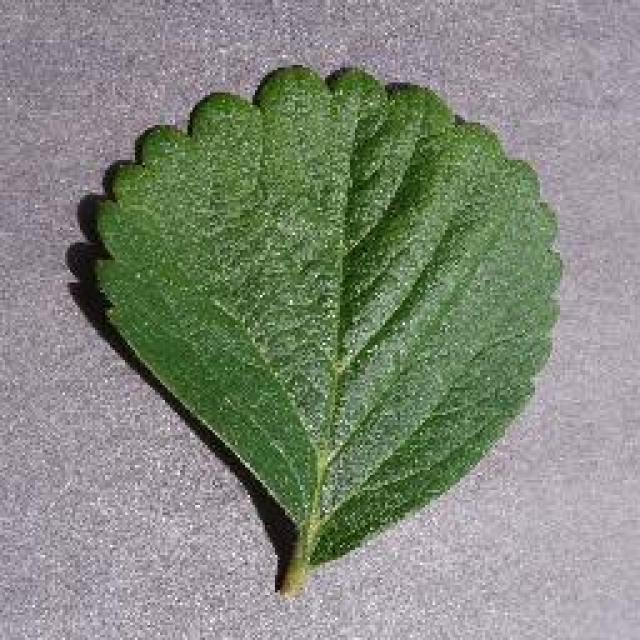Strawberry___healthy: (80, 42, 578, 608)
